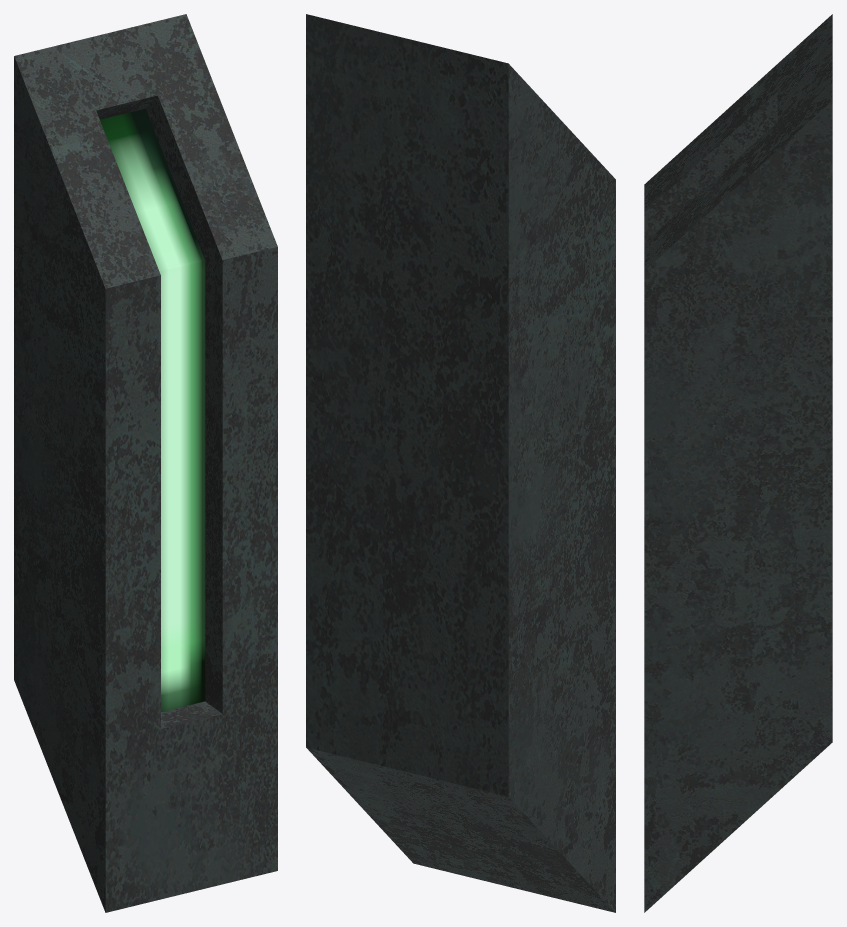
File: SmallFacilityRamp.fbx
3 views of the same model, side by side, from view 1: azimuth 30°, elevation 25°; view 2: azimuth 150°, elevation 25°; view 3: azimuth 270°, elevation 25° (orthographic). The views are drawn at different scales.
Parts seen in each view (by area): view 1: Cube.7963; view 2: Cube.7963; view 3: Cube.7963.
Boxes of the visible parts, bbox=[...] form: Cube.7963: bbox=[14, 14, 277, 912]; Cube.7963: bbox=[306, 14, 615, 912]; Cube.7963: bbox=[644, 14, 832, 912].
Bounding box in the file's own units: 36.84 × 161 × 33.87.
2 materials, 1 textured.
